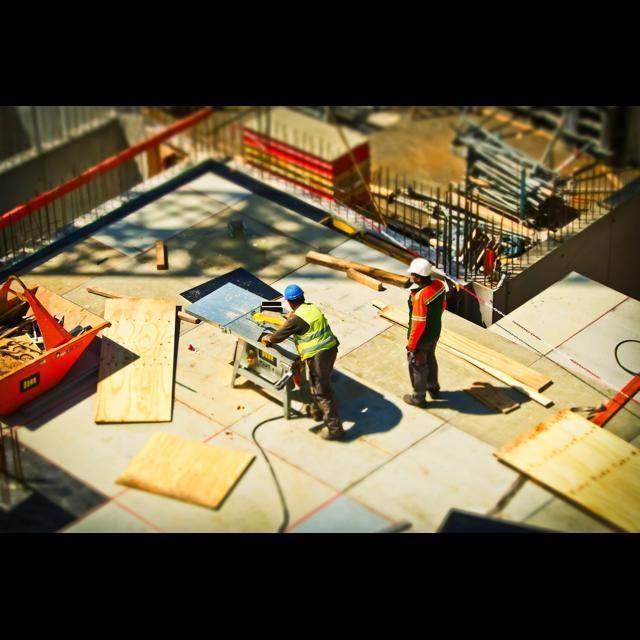helmet: (401, 254, 436, 276), (282, 284, 306, 304)
safety_vest: (399, 278, 448, 360), (294, 302, 340, 362)
